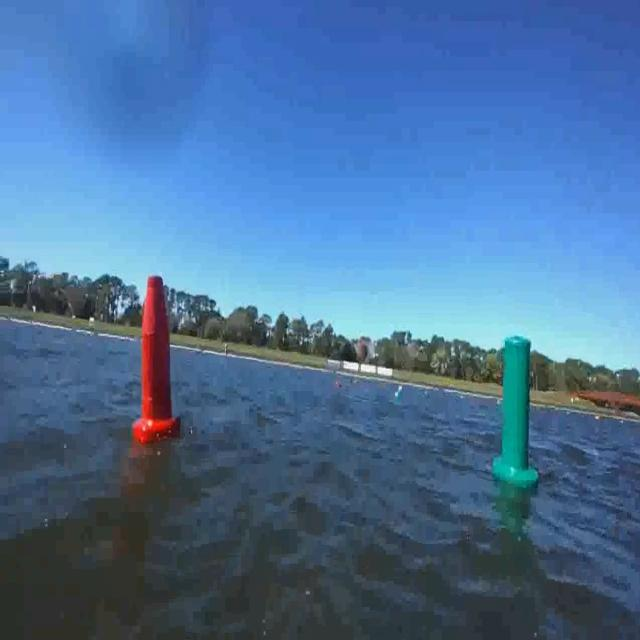green-column-buoy: (493, 332, 538, 490)
red-column-buoy: (133, 269, 179, 442)
